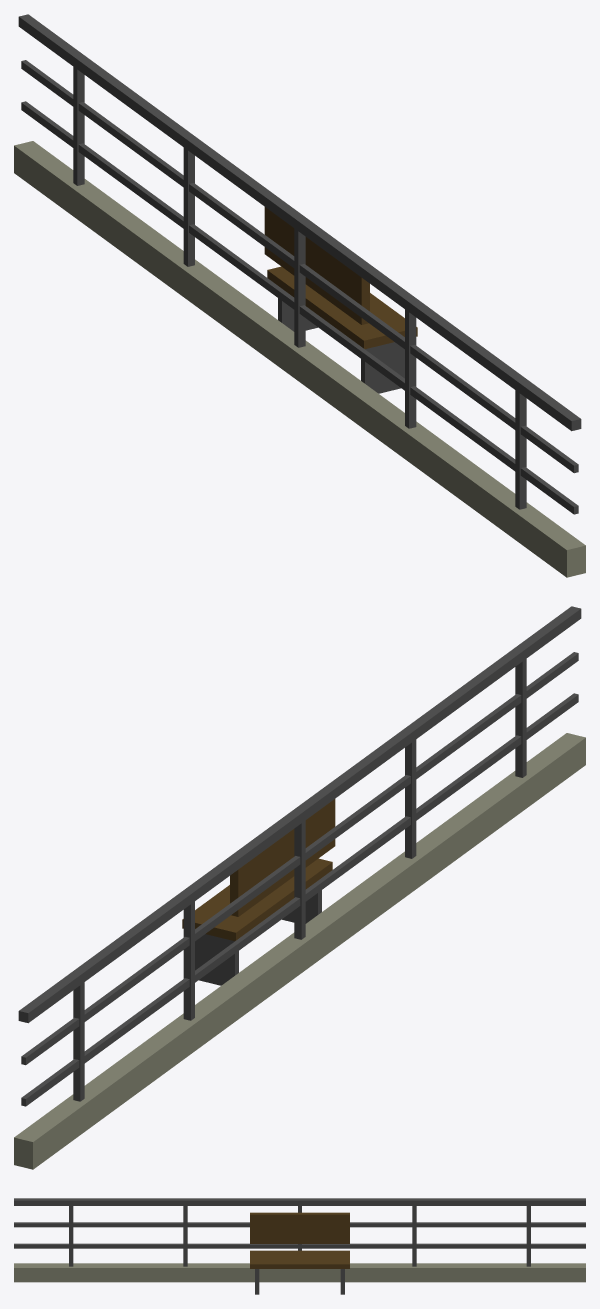
Rendered from platform_wall.fbx.
The picture shows the model from 3 angles, top to bottom: view 1: azimuth 30°, elevation 25°; view 2: azimuth 150°, elevation 25°; view 3: azimuth 270°, elevation 25°; orthographic projection. The views are drawn at different scales.
Parts seen in each view (by area): view 1: p452_platform_wall; view 2: p452_platform_wall; view 3: p452_platform_wall.
Boxes of the visible parts, box(x1,y1,x2,y2) form: p452_platform_wall: box(14, 14, 585, 577); p452_platform_wall: box(14, 606, 585, 1169); p452_platform_wall: box(14, 1198, 585, 1294).
Bounding box in the file's own units: 0.66 × 1.24 × 8.
